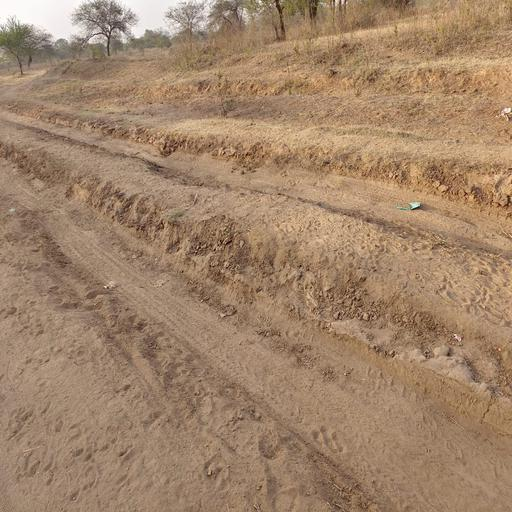vehicle_track: (0, 157, 512, 512), (0, 107, 512, 264)
